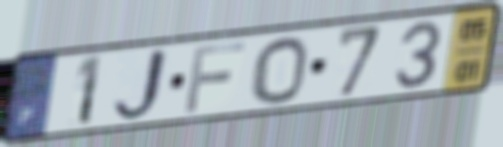1: (74, 52, 105, 130)
3: (392, 18, 444, 93)
7: (335, 23, 384, 101)
F: (182, 39, 249, 116)
J: (109, 45, 172, 125)
O: (249, 34, 311, 106)
